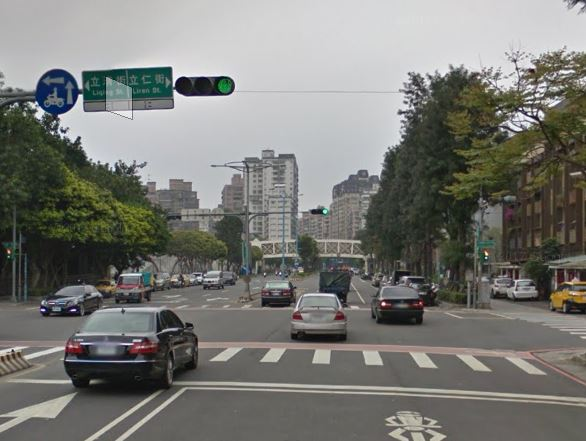Traffic_light_green: (174, 72, 235, 99)
car: (63, 302, 202, 388), (289, 290, 350, 344), (370, 285, 424, 324), (261, 278, 296, 305)
